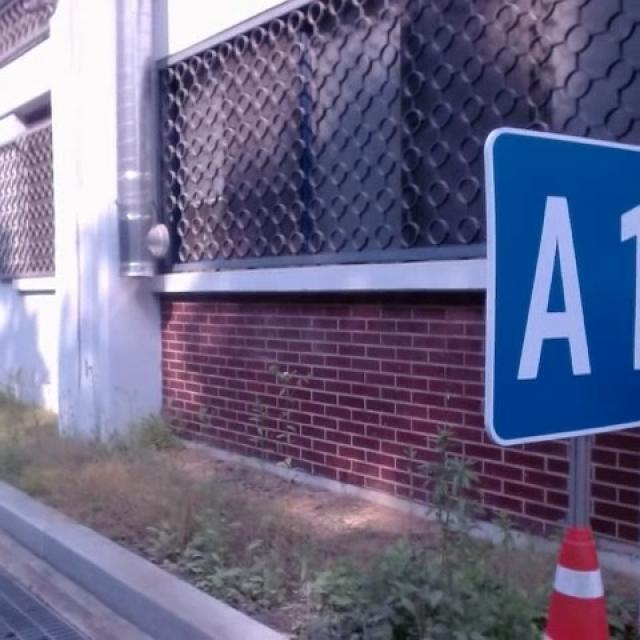a1: (469, 124, 640, 450)
